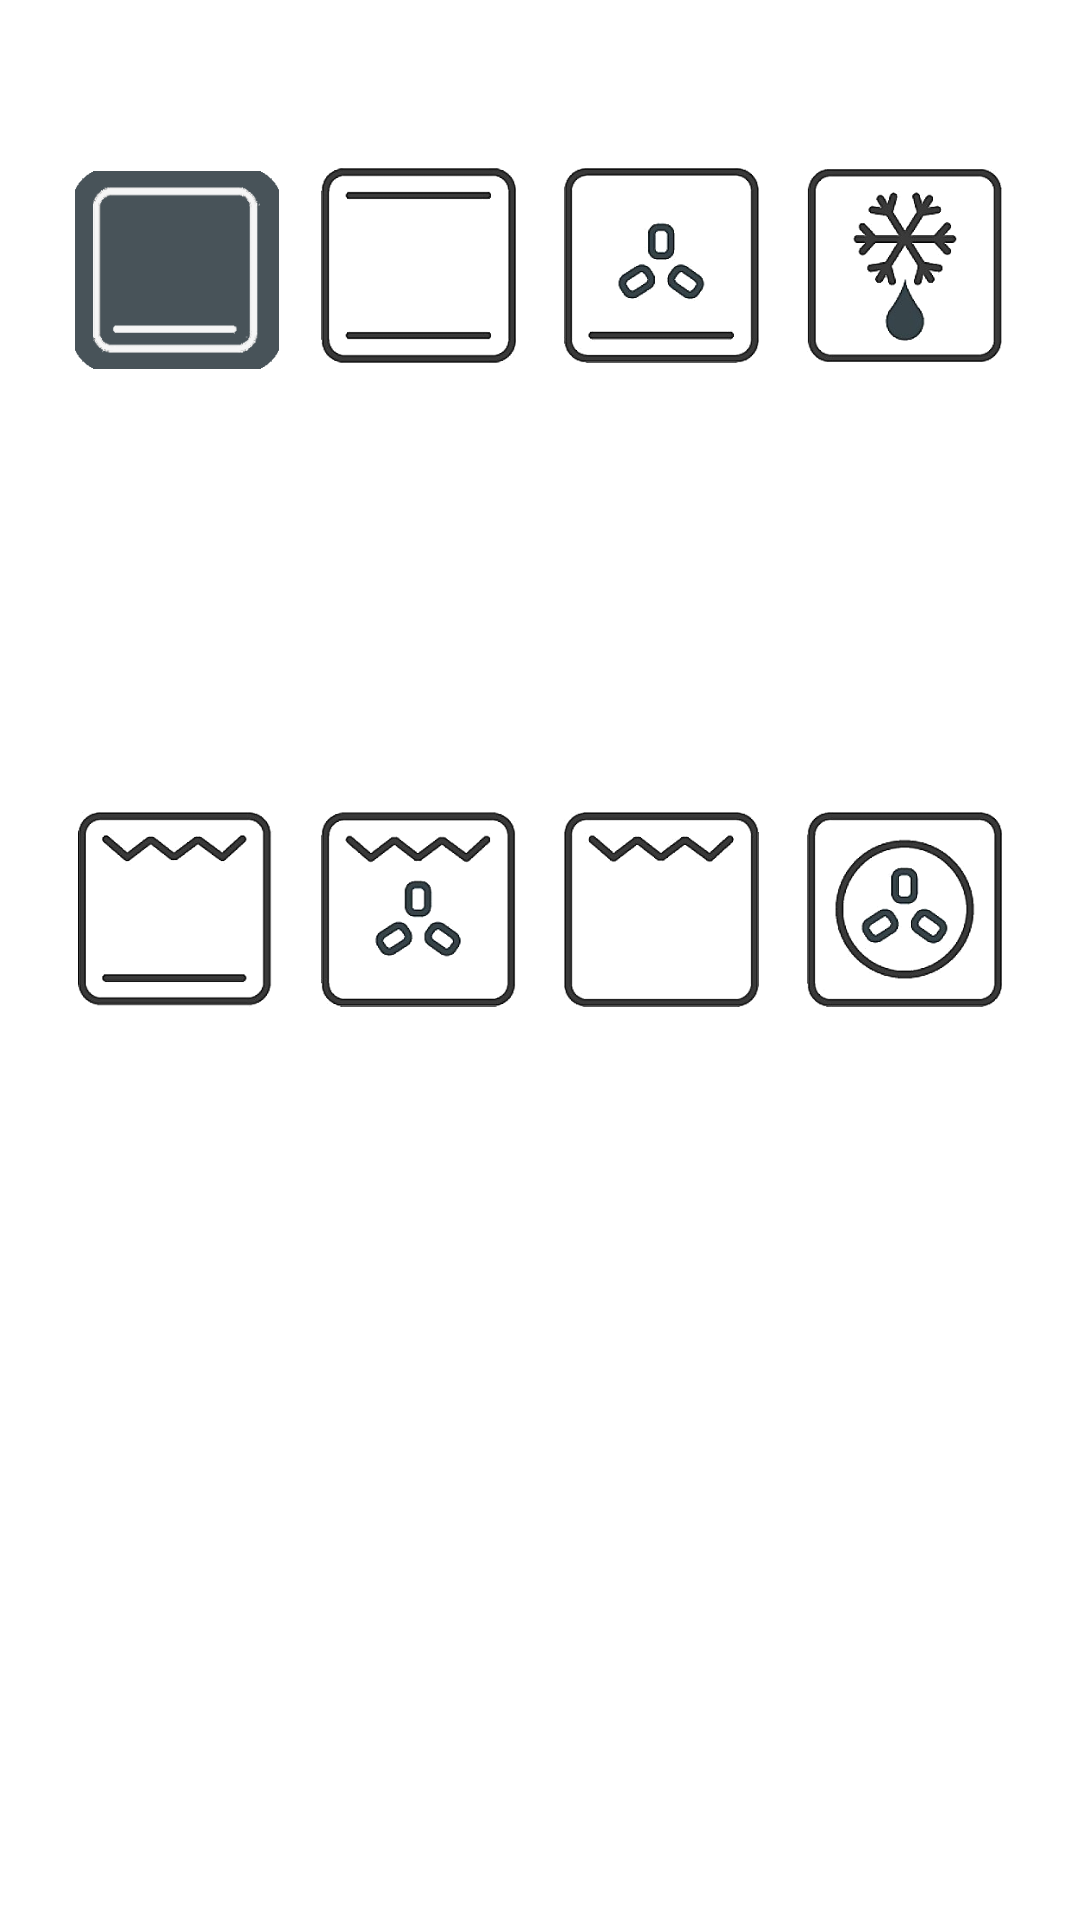

Named icons in this screenshot (1080*1920) and their centers, (x,y):
oven mode: (418,265), (661,265), (905,265), (177,270), (174,909), (418,909), (661,909), (904,909)
